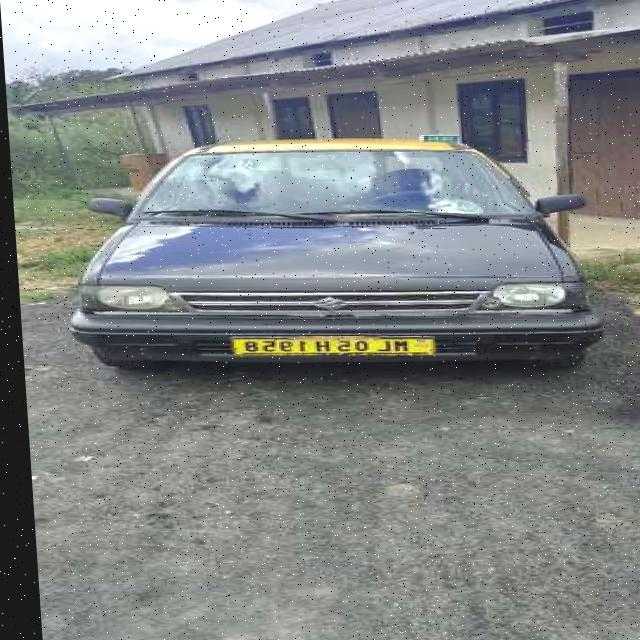plate: (223, 337, 436, 358)
